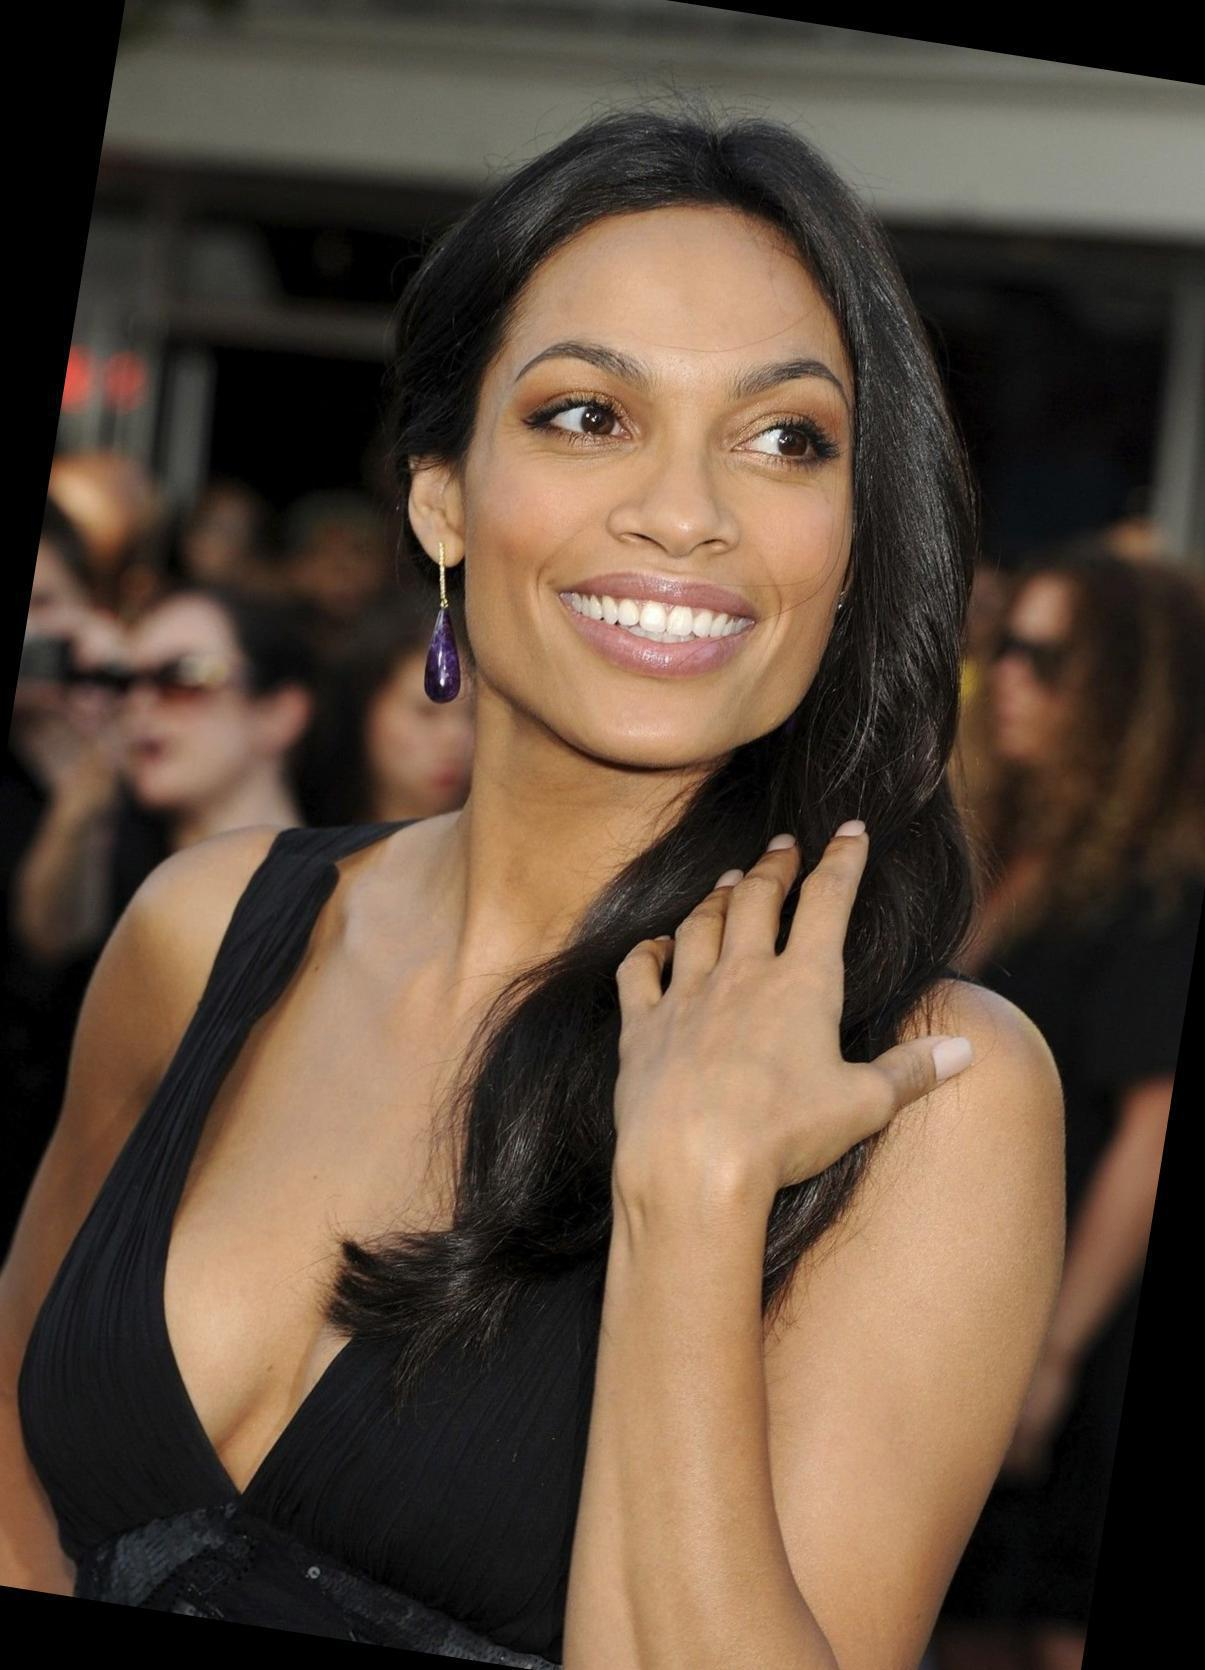Sober: (488, 267, 861, 733)
